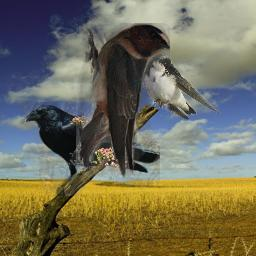Crow: (19, 102, 160, 196)
Swallow: (76, 23, 170, 178), (141, 53, 222, 121)
